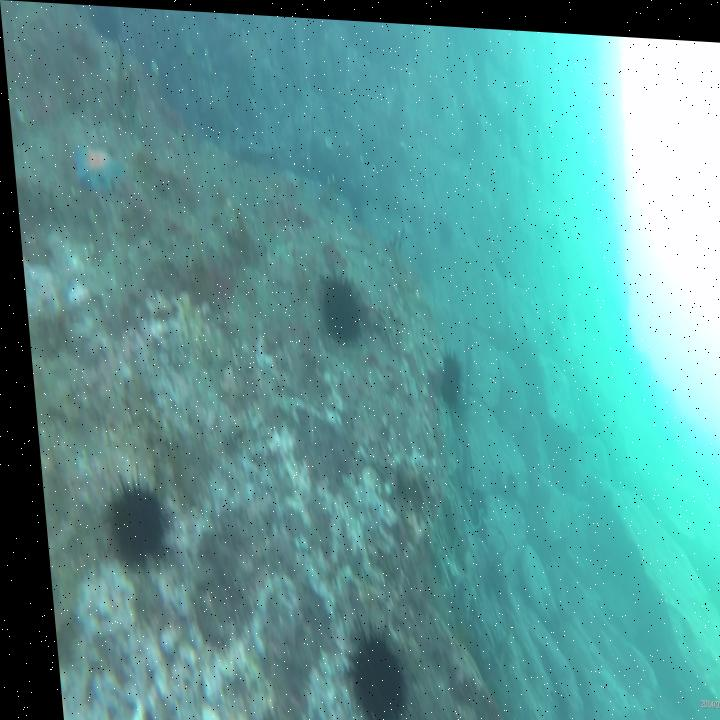echinus: (321, 601, 406, 720), (84, 460, 161, 566), (311, 257, 356, 345), (428, 336, 462, 407)
starfish: (67, 140, 125, 197)
